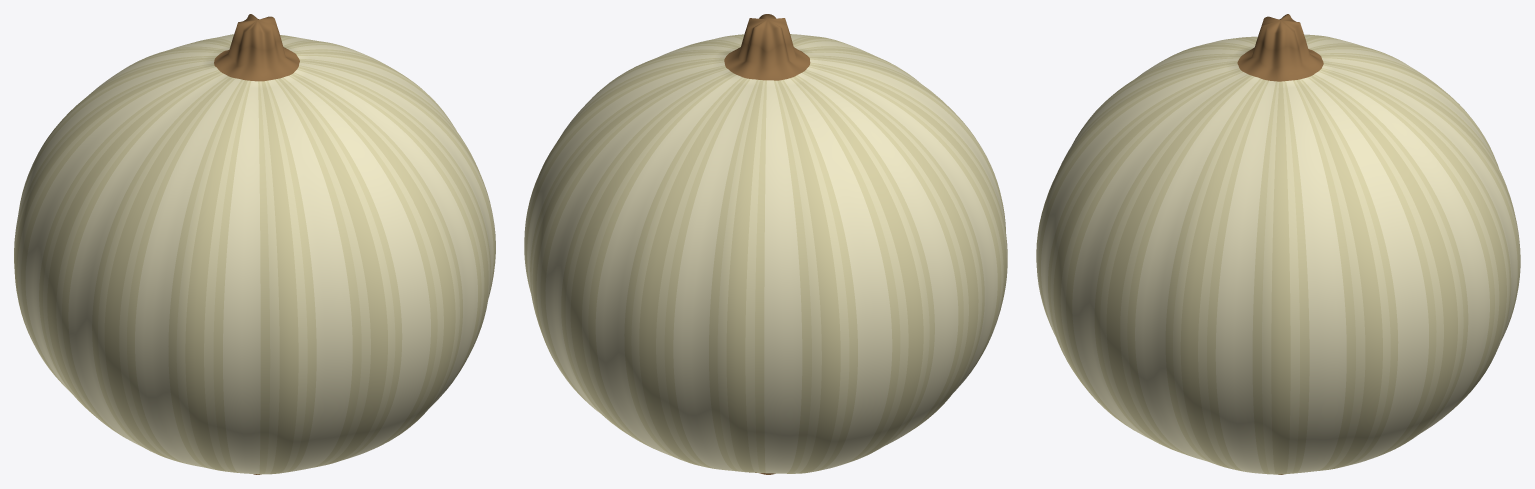
The picture shows the model from 3 angles, left to right: view 1: azimuth 30°, elevation 25°; view 2: azimuth 150°, elevation 25°; view 3: azimuth 270°, elevation 25°; orthographic projection.
Parts seen in each view (by area): view 1: Whole onion with integral neck basal scar and layered skin; view 2: Whole onion with integral neck basal scar and layered skin; view 3: Whole onion with integral neck basal scar and layered skin.
Boxes of the visible parts, <box> form: Whole onion with integral neck basal scar and layered skin: <box>14,14,495,474</box>; Whole onion with integral neck basal scar and layered skin: <box>524,14,1007,474</box>; Whole onion with integral neck basal scar and layered skin: <box>1036,14,1520,474</box>.
Bounding box in the file's own units: 0.0854 × 0.0868 × 0.0854.
